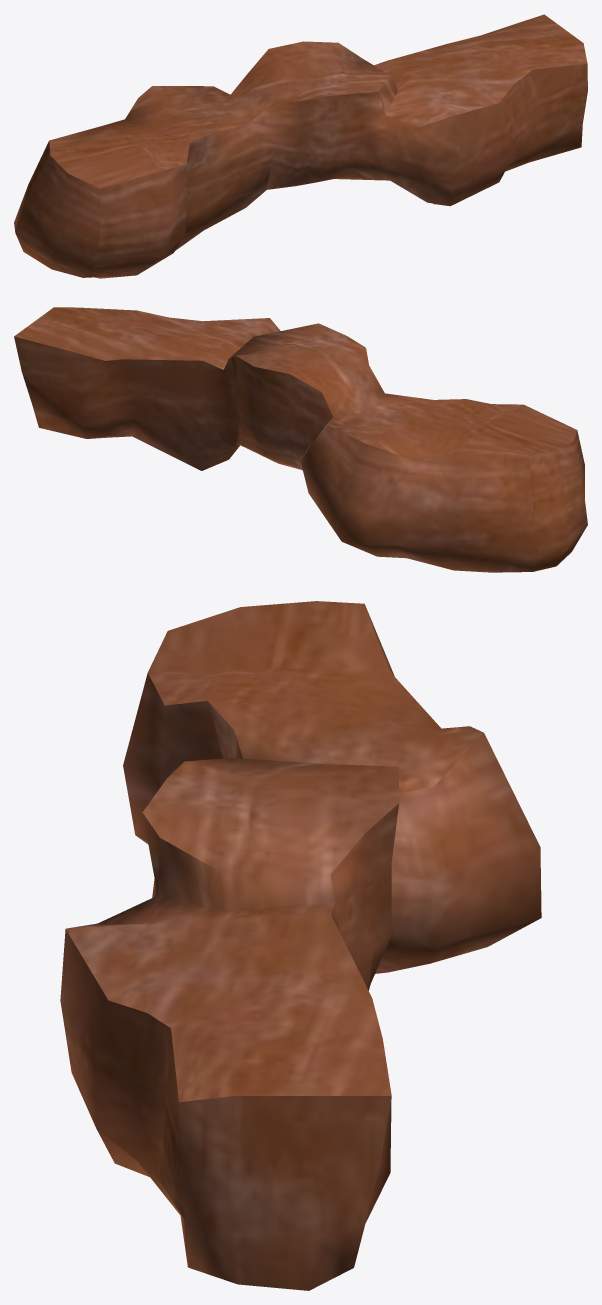
The model's file is Canyon_Rock_Platforms_7.glb.
3 views of the same model, one above another, from view 1: azimuth 30°, elevation 25°; view 2: azimuth 150°, elevation 25°; view 3: azimuth 270°, elevation 25° (orthographic). The views are drawn at different scales.
Parts seen in each view (by area): view 1: Canyon_Rock_Platforms_7_0; view 2: Canyon_Rock_Platforms_7_0; view 3: Canyon_Rock_Platforms_7_0.
Part boxes in pixels (x1=…): Canyon_Rock_Platforms_7_0: x1=14, y1=14, x2=587, y2=278; Canyon_Rock_Platforms_7_0: x1=14, y1=307, x2=587, y2=572; Canyon_Rock_Platforms_7_0: x1=60, y1=601, x2=541, y2=1290.
Size of the model in its own units: 21.06 by 6 by 8.15.
1 material, 1 textured.
